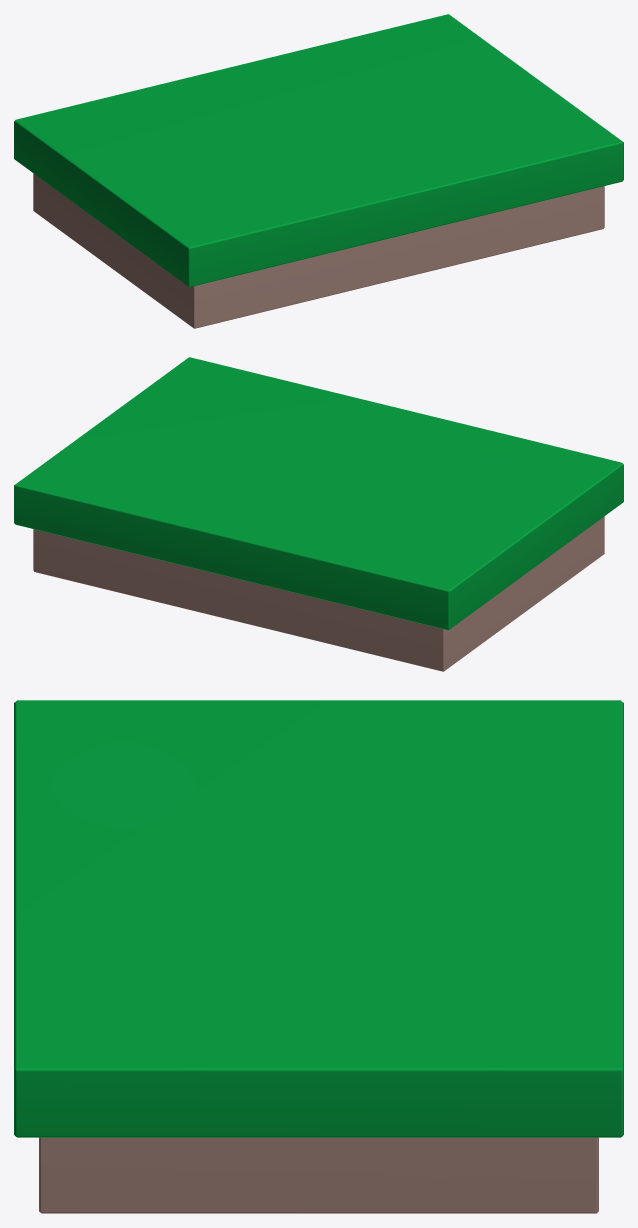
File: Farm_17_Base_1.glb
3 renders of one model, top to bottom at view 1: azimuth 30°, elevation 25°; view 2: azimuth 150°, elevation 25°; view 3: azimuth 270°, elevation 25°, orthographic. The views are drawn at different scales.
Visible parts, largest first — view 1: Farm_17_Base_1; view 2: Farm_17_Base_1; view 3: Farm_17_Base_1.
Part boxes in pixels (<box>): Farm_17_Base_1: <box>14,14,623,328</box>; Farm_17_Base_1: <box>14,357,623,671</box>; Farm_17_Base_1: <box>14,700,623,1213</box>.
Size of the model in its own units: 12.94 by 2.55 by 9.02.
Materials: 1 (1 with a texture image).
